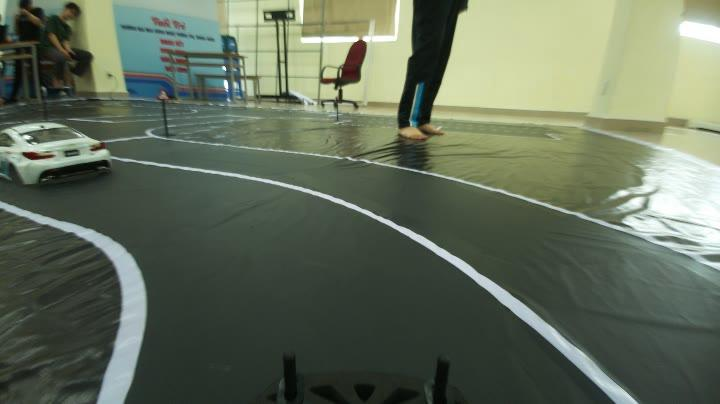car: (2, 108, 112, 196)
